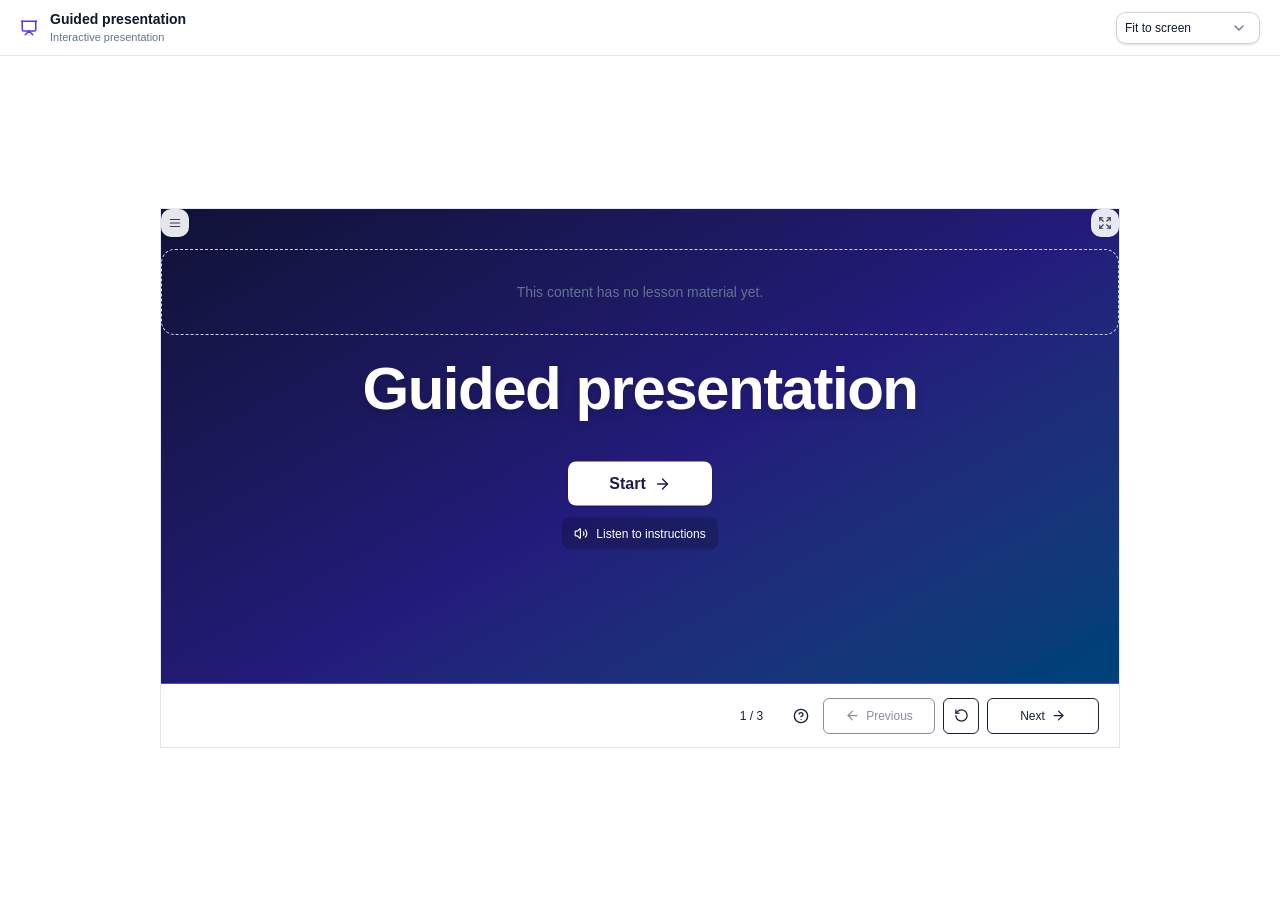
presentation instruction audio and first-visit guidance › holds Start for its configured notice and repeats the notice when first-visit-only is off
Click the button "Start" at (640, 484), box left=568, top=462, right=712, bottom=506
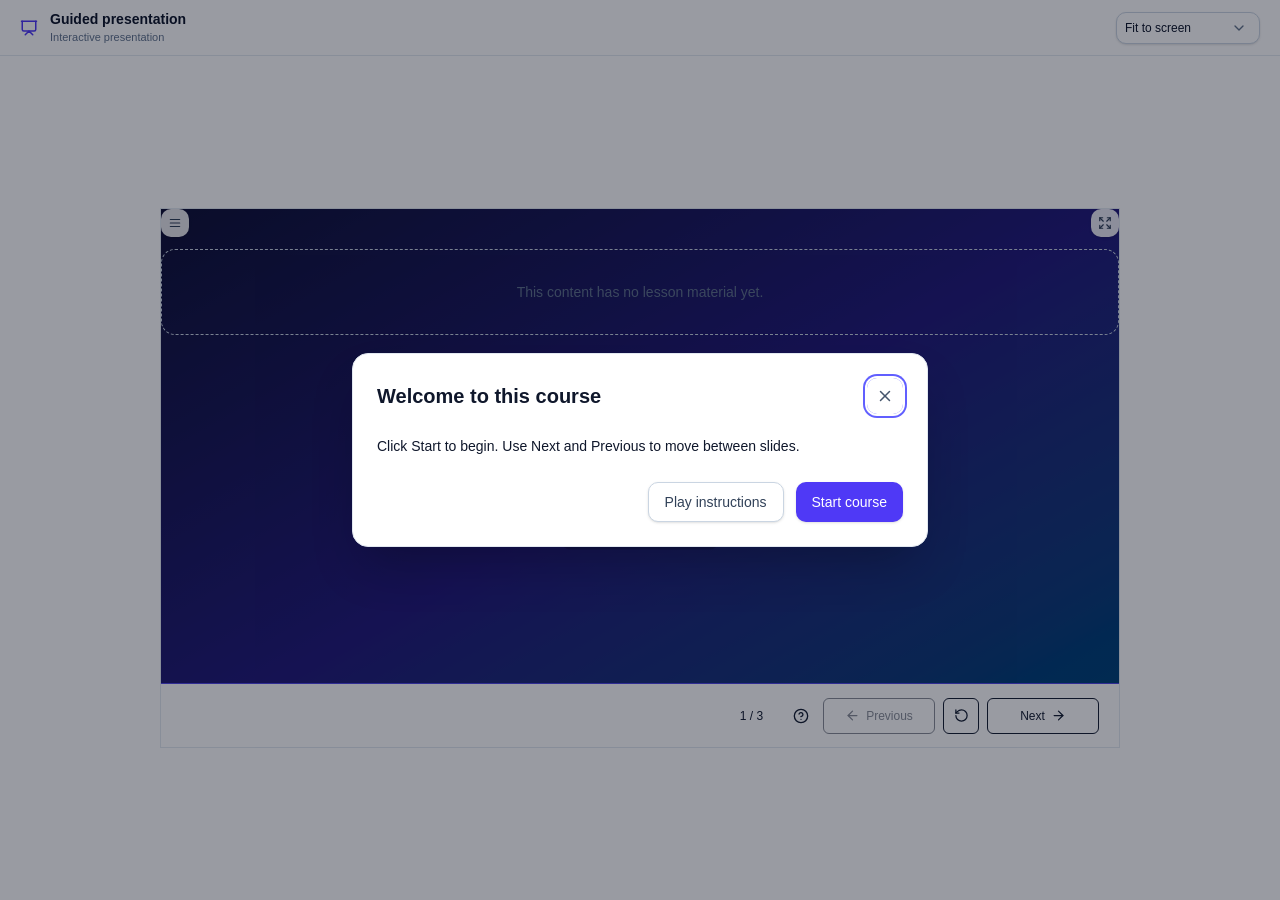
Click the button "Start course" at (849, 502), box left=796, top=482, right=903, bottom=522
Wait 100 ms
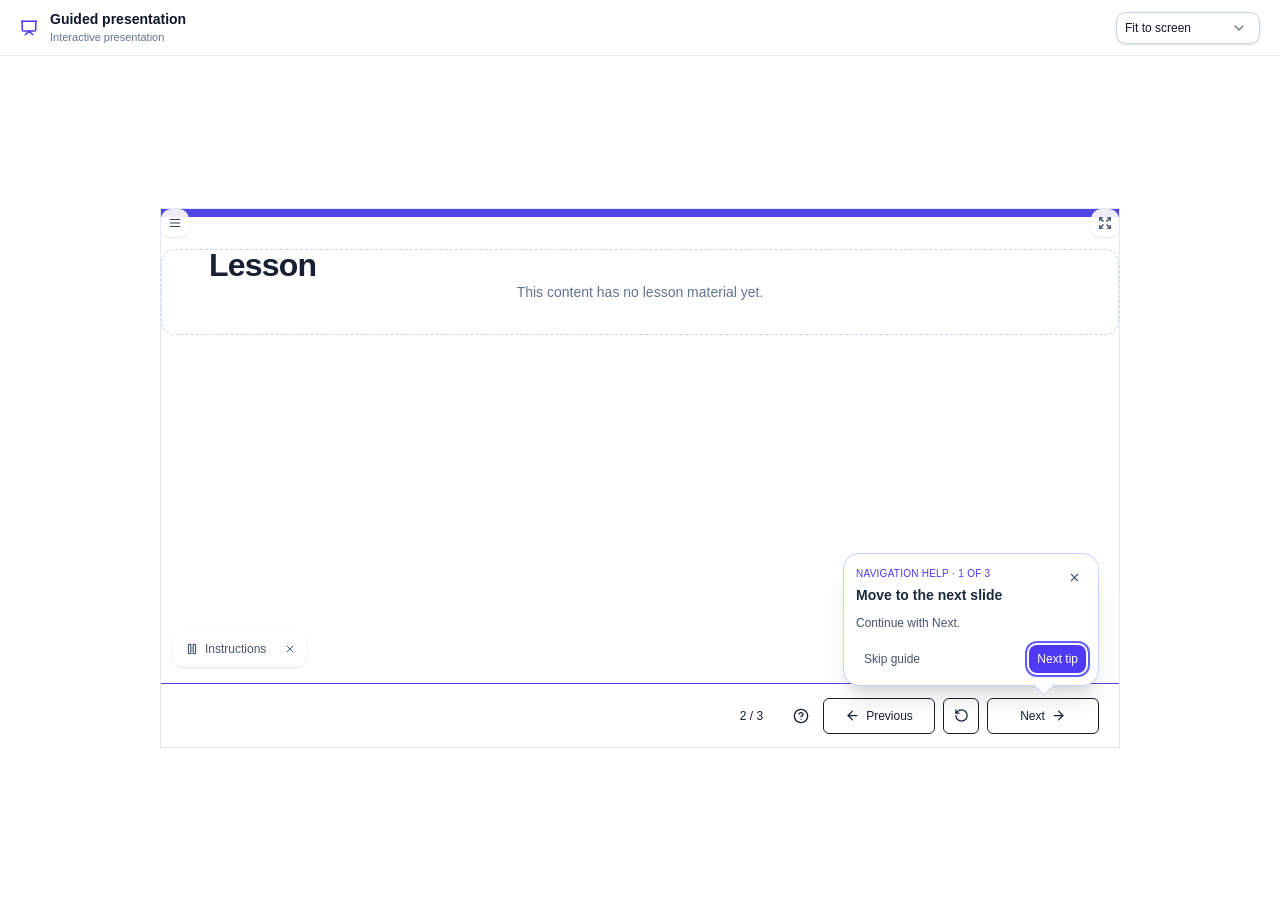
Click the button "Skip guide" at (892, 658), box left=856, top=644, right=928, bottom=672
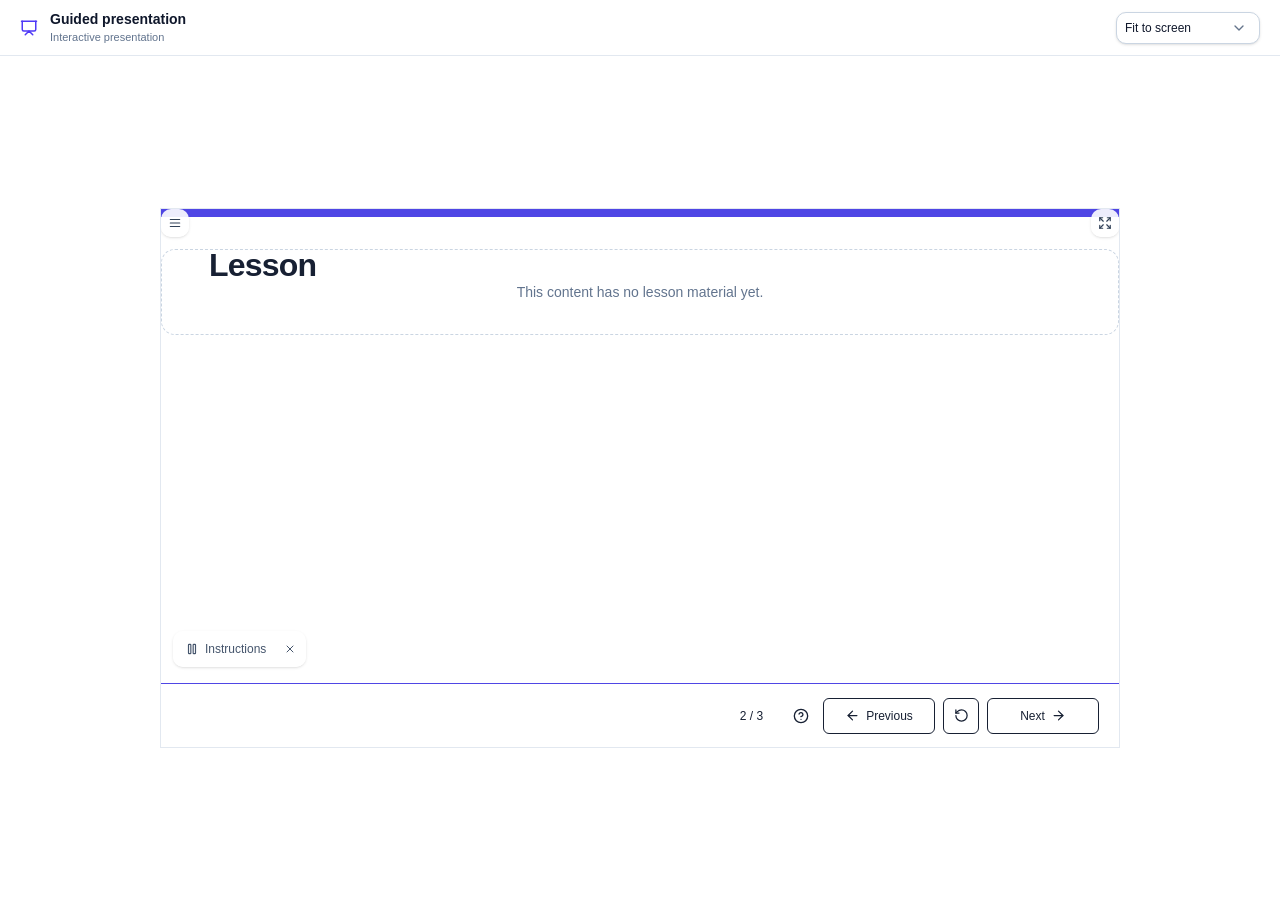
Click the button "Previous" at (879, 716), box left=823, top=698, right=935, bottom=734
Wait 100 ms
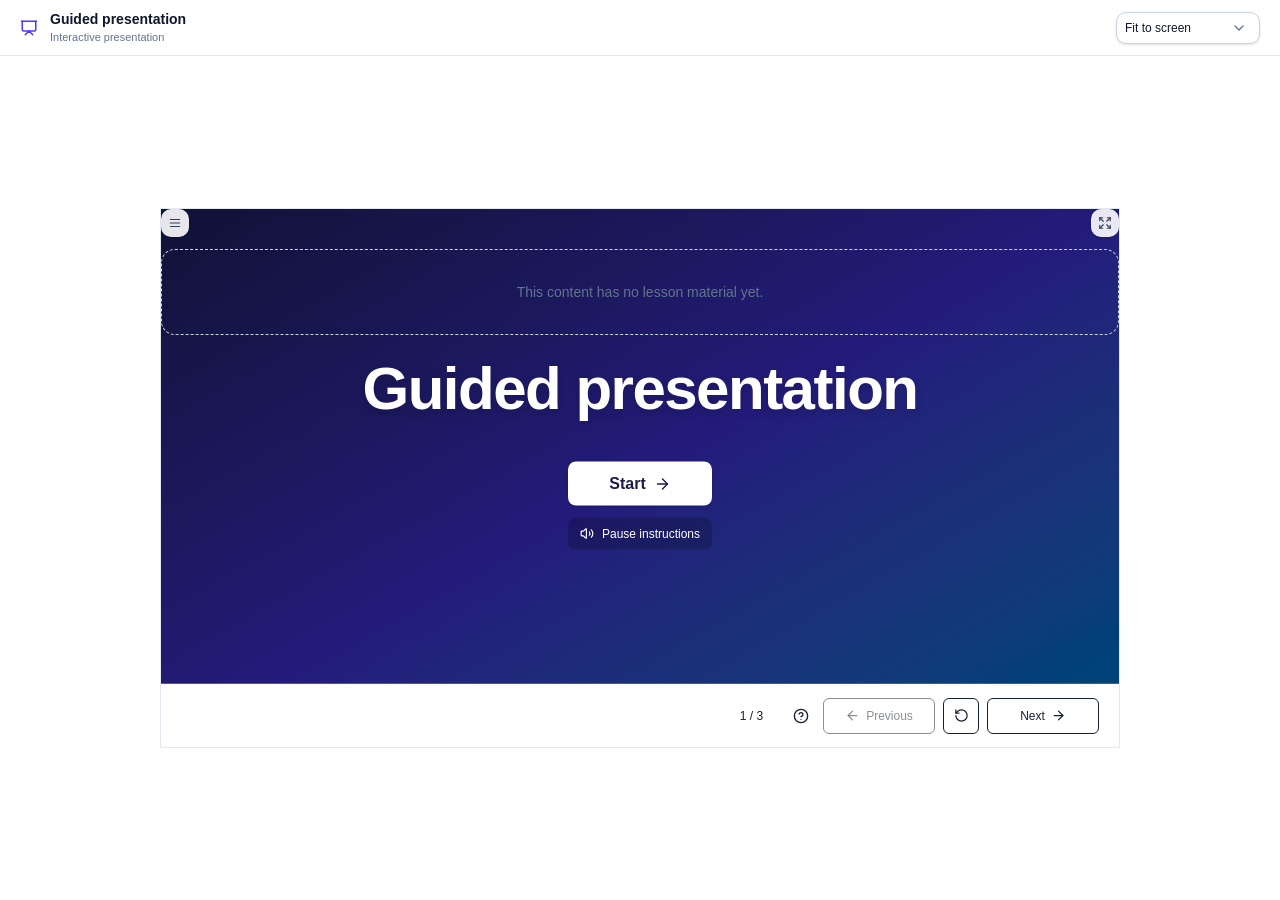
Click the button "Start" at (640, 484), box left=568, top=462, right=712, bottom=506
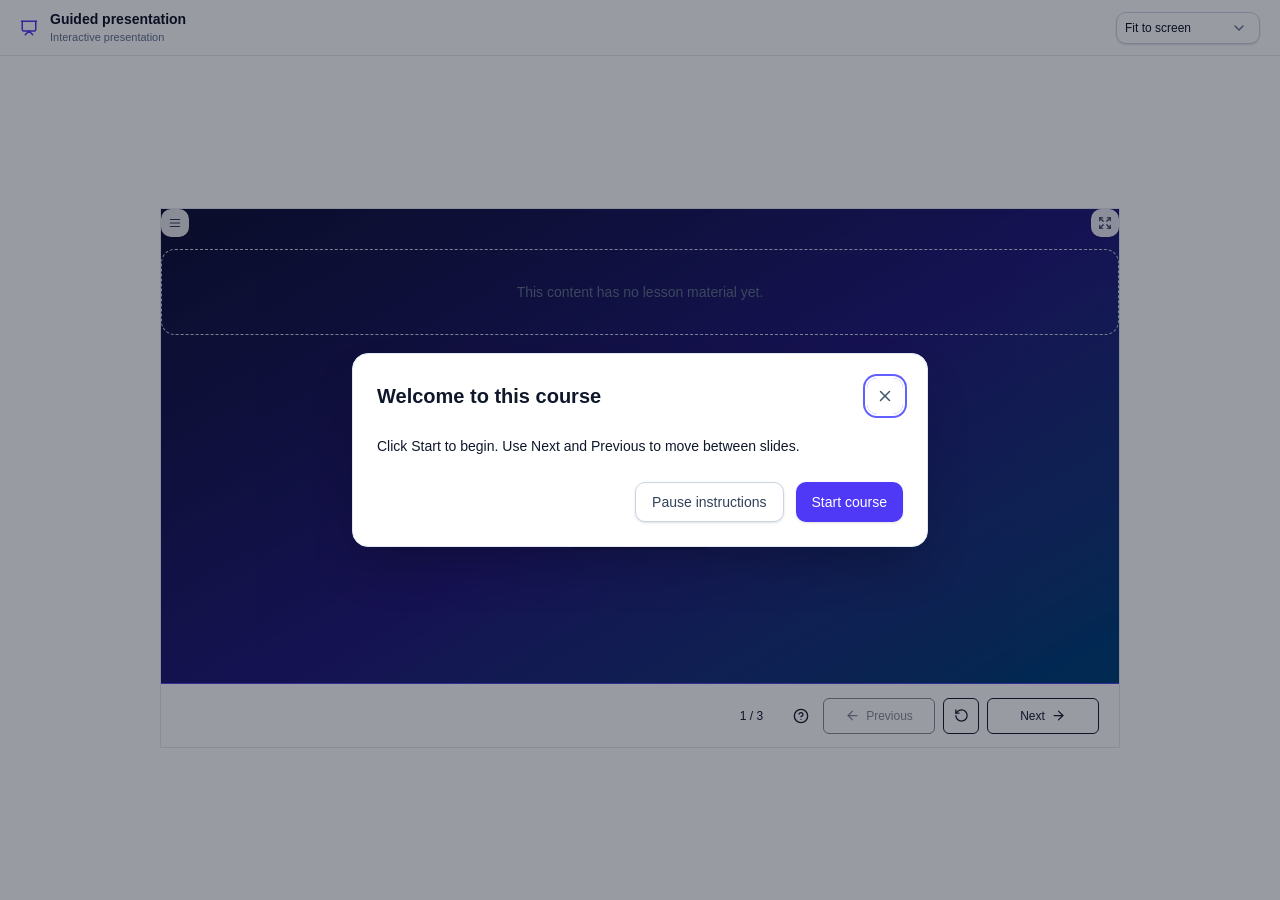
Result: the dialog is shown at left=352, top=353, right=928, bottom=547
